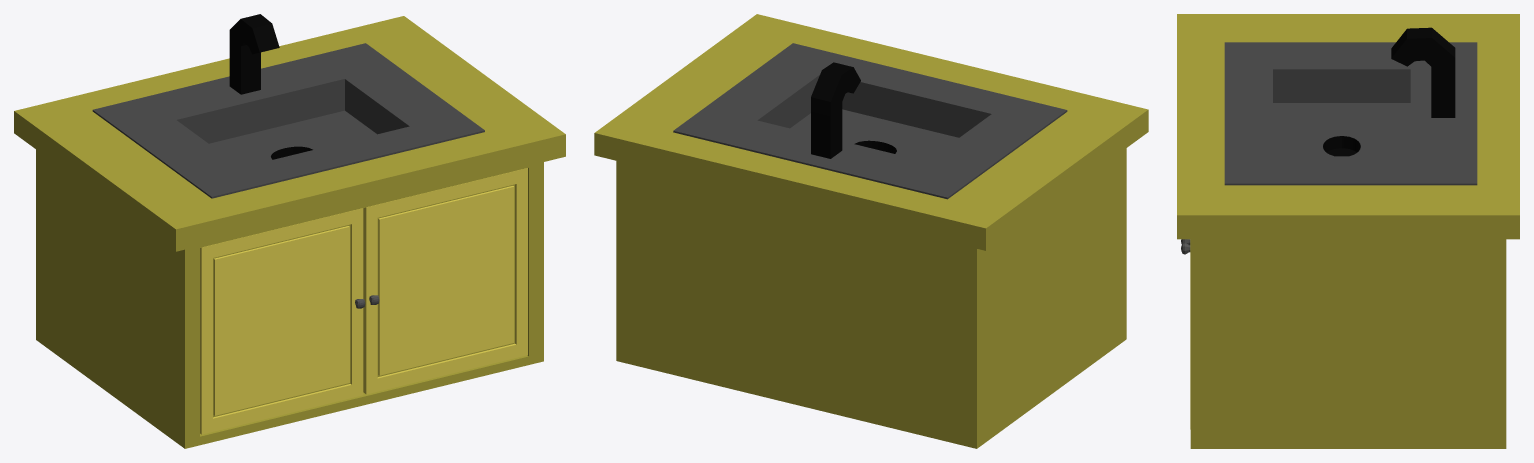
Rendered from Sinki.fbx.
3 views of the same model, side by side, from view 1: azimuth 30°, elevation 25°; view 2: azimuth 150°, elevation 25°; view 3: azimuth 270°, elevation 25° (orthographic). The views are drawn at different scales.
Visible parts, largest first — view 1: Sinki; view 2: Sinki; view 3: Sinki.
Boxes of the visible parts, x1=… form: Sinki: x1=14, y1=14, x2=565, y2=448; Sinki: x1=594, y1=14, x2=1148, y2=448; Sinki: x1=1177, y1=14, x2=1519, y2=448.
Bounding box in the file's own units: 199 × 149 × 143.
